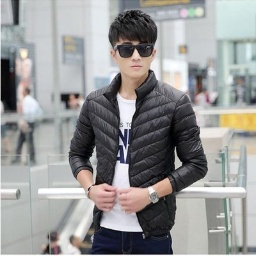face: (107, 10, 157, 79)
